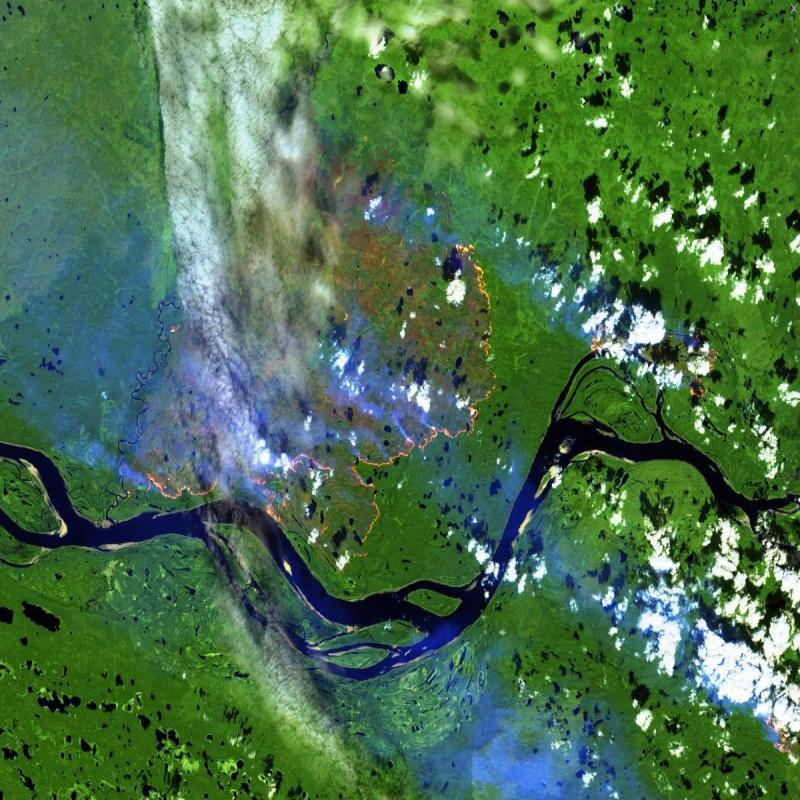fire: (142, 231, 507, 565), (571, 314, 720, 412), (762, 704, 800, 763)
